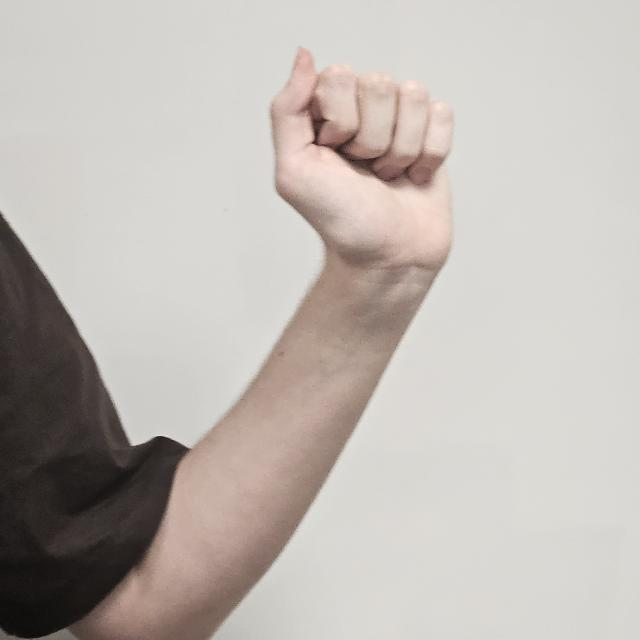Quadro: (267, 36, 458, 276)
